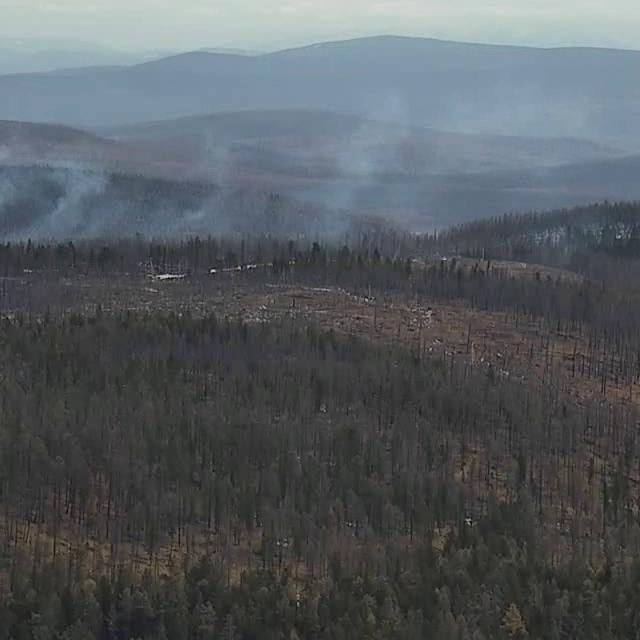Smoke: (1, 72, 542, 282)
